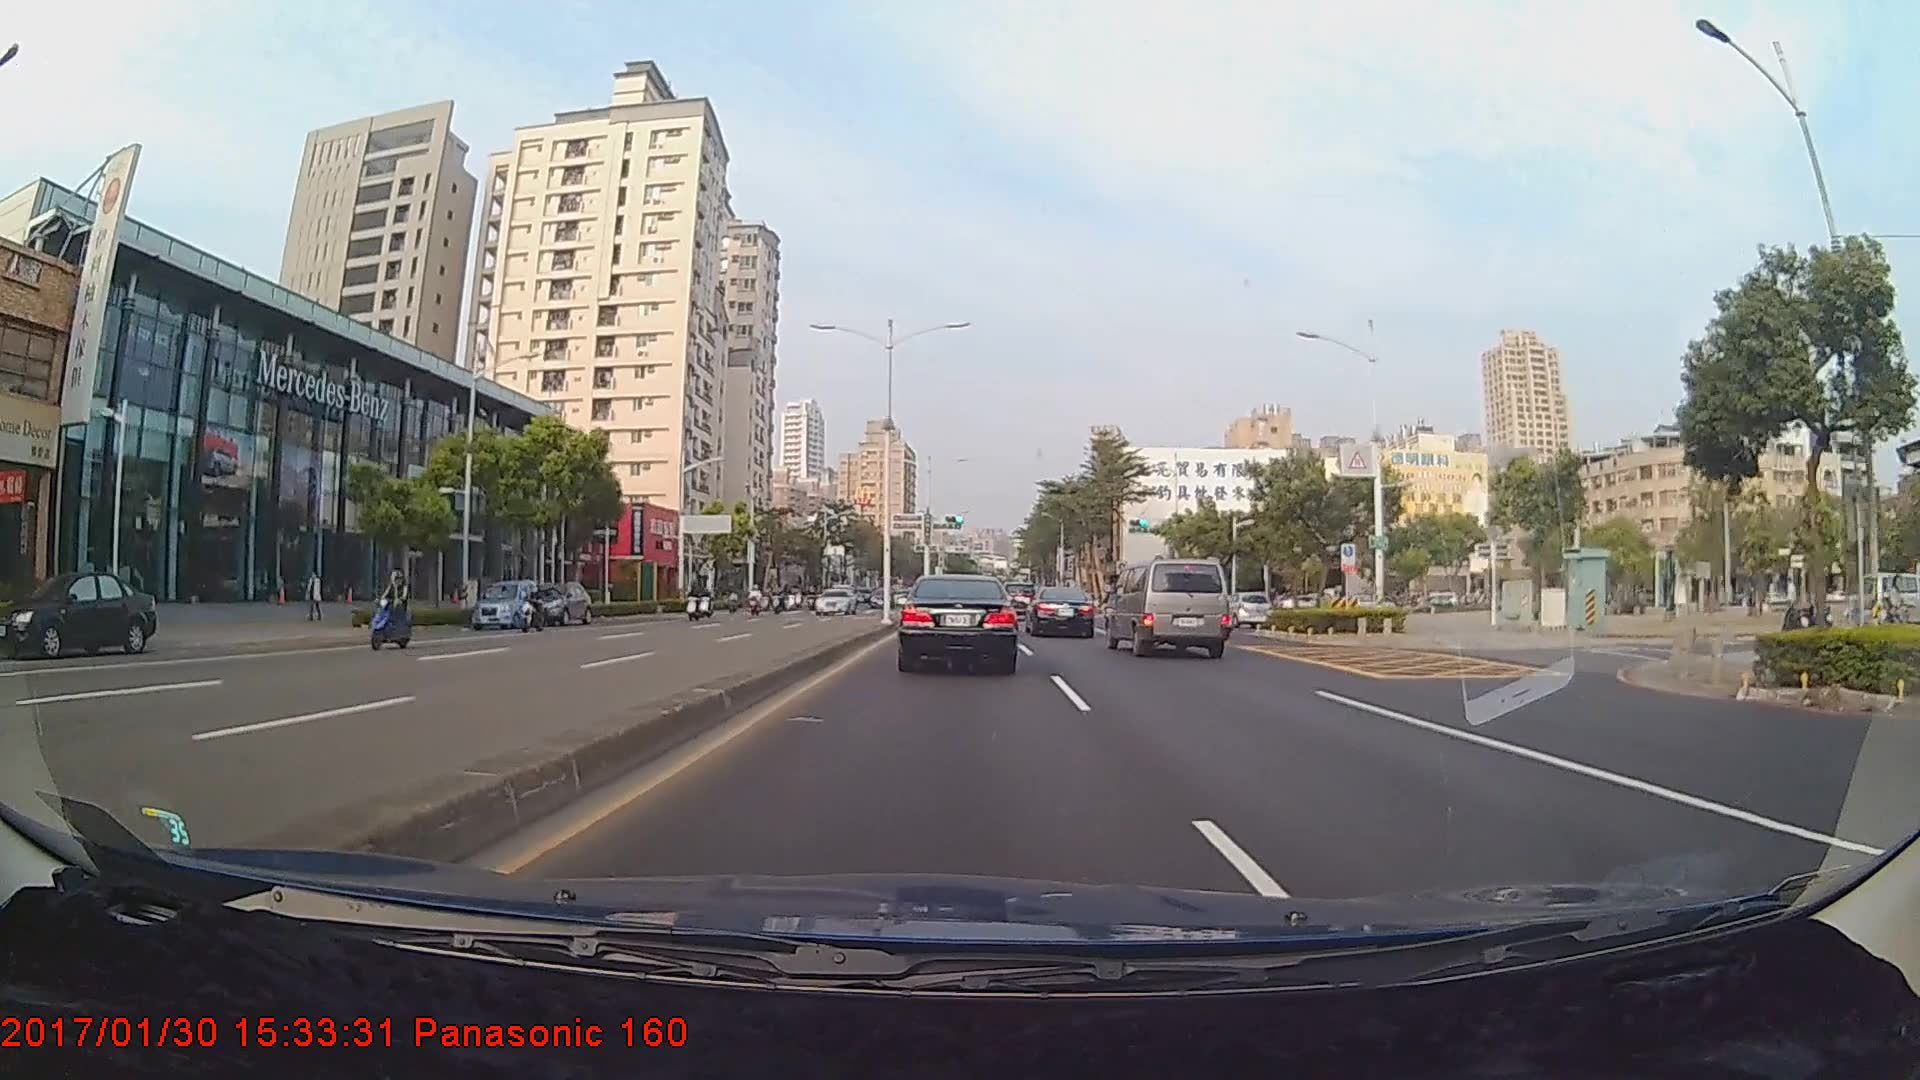pedestrian: (303, 567, 325, 627)
rider: (366, 566, 418, 657), (516, 582, 554, 641)
vehicle: (0, 571, 157, 657), (1106, 557, 1228, 658), (898, 572, 1017, 674), (1024, 585, 1096, 639), (472, 577, 543, 627), (528, 579, 589, 626), (1216, 591, 1273, 627), (812, 587, 855, 615)
